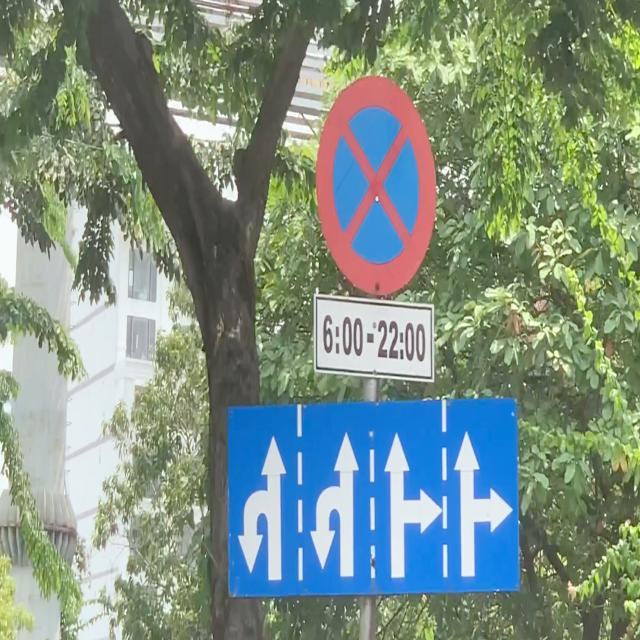Cam dung va do: (315, 76, 436, 297)
